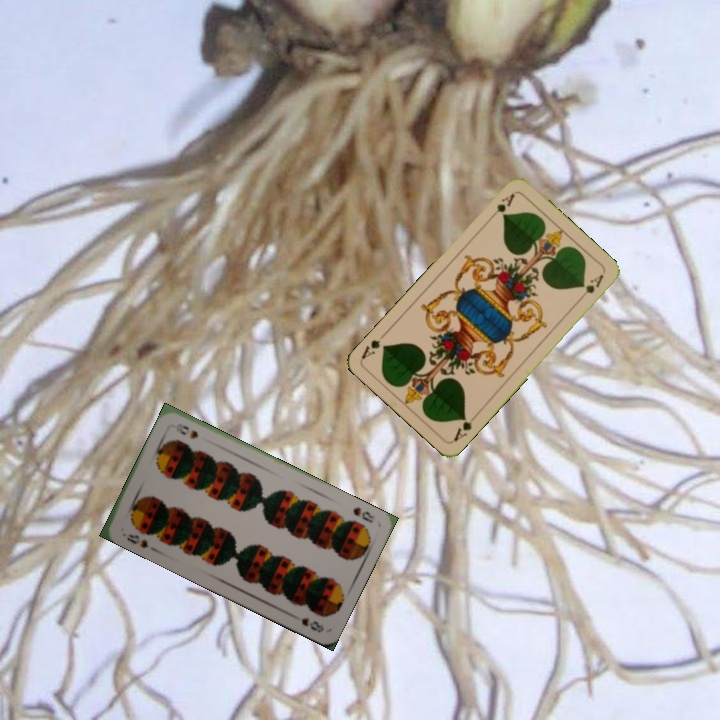GA: (449, 410, 480, 444), (486, 189, 517, 222)
S8: (349, 503, 377, 525), (123, 530, 151, 551)
